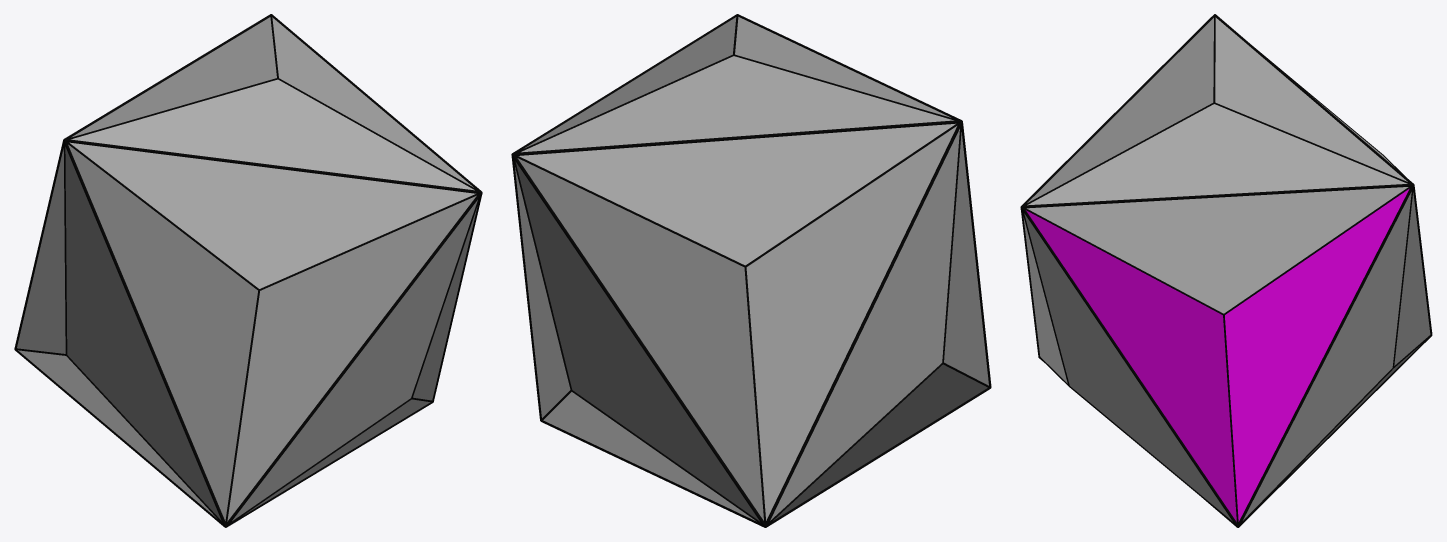
Rendered from polyformsTriOctRot_2_2.glb.
The picture shows the model from 3 angles, left to right: view 1: azimuth 30°, elevation 25°; view 2: azimuth 150°, elevation 25°; view 3: azimuth 270°, elevation 25°; orthographic projection. The views are drawn at different scales.
Bounding box in the file's own units: 3.59 × 3.45 × 3.59.
